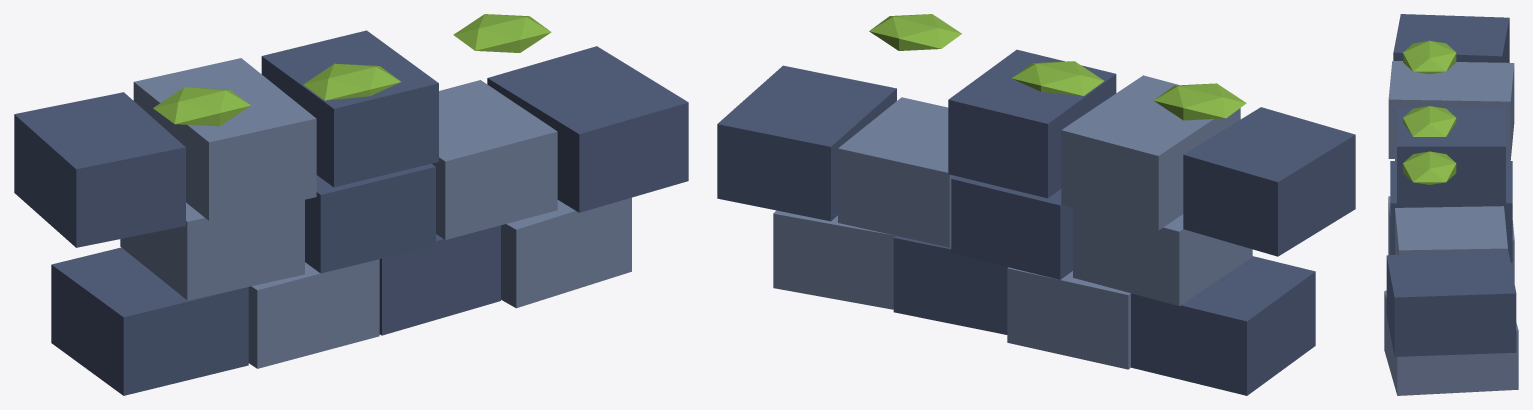
File: rockWall.glb
3 renders of one model, left to right at view 1: azimuth 30°, elevation 25°; view 2: azimuth 150°, elevation 25°; view 3: azimuth 270°, elevation 25°, orthographic. The views are drawn at different scales.
Parts seen in each view (by area): view 1: rockWall_mesh; view 2: rockWall_mesh; view 3: rockWall_mesh.
Part boxes in pixels (x1,y1,x2,y2): rockWall_mesh: (14,14,688,395); rockWall_mesh: (717,14,1355,395); rockWall_mesh: (1384,14,1518,395).
Bounding box in the file's own units: 2.43 × 0.9908 × 0.6158.
